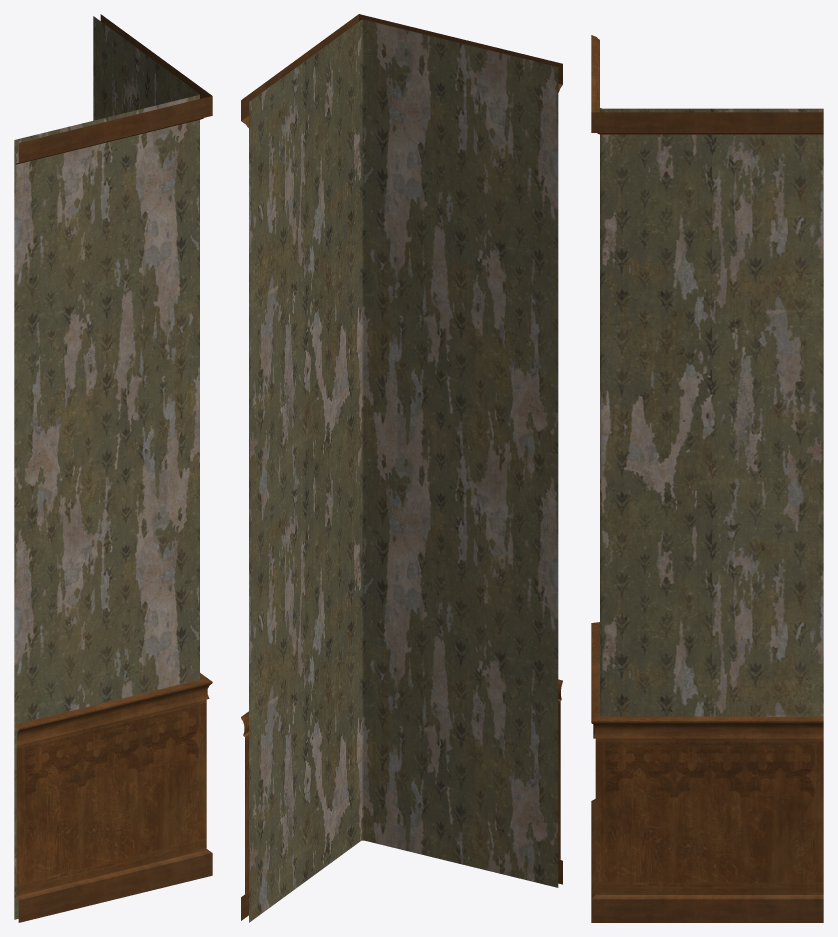
The model's file is SM_Wall_Paper_03 1.fbx.
3 views of the same model, side by side, from view 1: azimuth 30°, elevation 25°; view 2: azimuth 150°, elevation 25°; view 3: azimuth 270°, elevation 25° (orthographic). The views are drawn at different scales.
Parts seen in each view (by area): view 1: SM_Wall_Paper_03; view 2: SM_Wall_Paper_03; view 3: SM_Wall_Paper_03.
Part boxes in pixels (bbox=[...]): SM_Wall_Paper_03: bbox=[14, 14, 212, 922]; SM_Wall_Paper_03: bbox=[241, 14, 562, 922]; SM_Wall_Paper_03: bbox=[591, 35, 823, 922].
Size of the model in its own units: 104 by 400 by 104.
